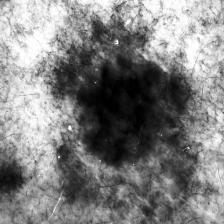Benign Marking or Mole: (49, 16, 202, 224)
